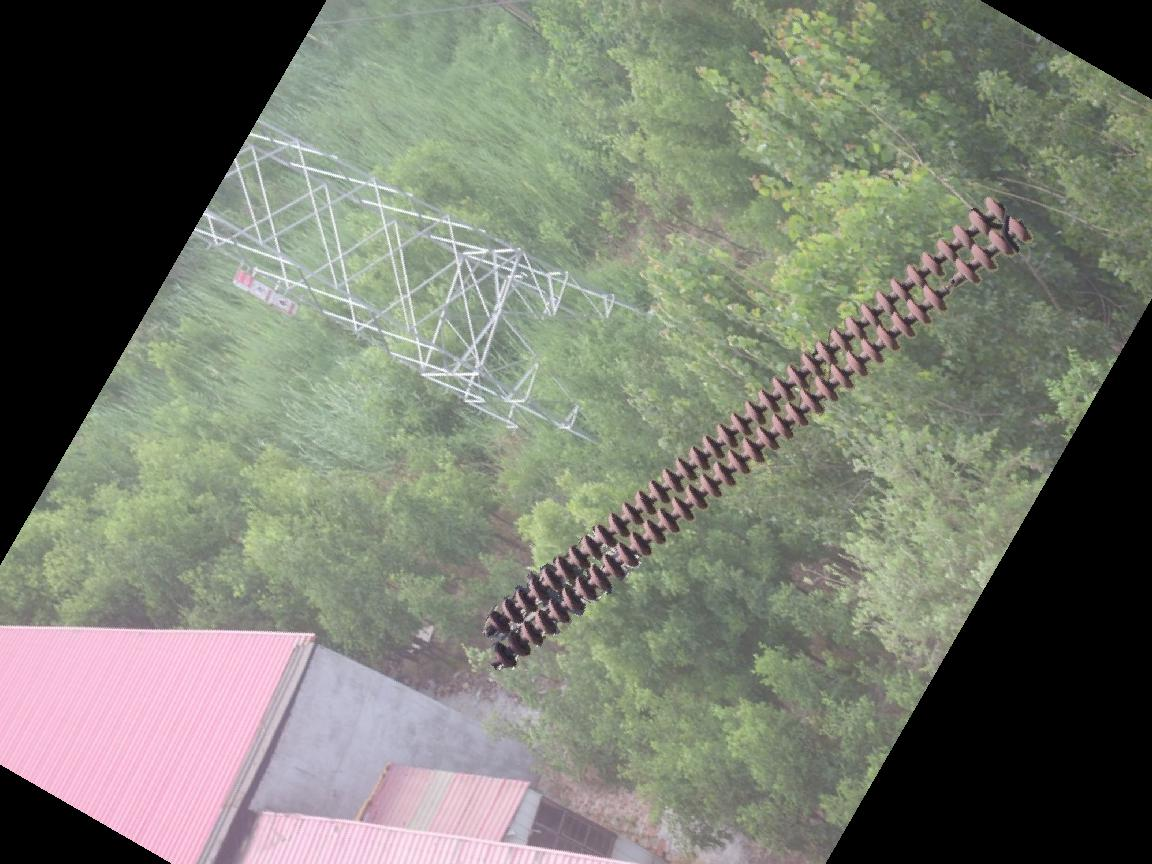insulator: (481, 187, 1034, 678)
insulator_stringdrop: (918, 255, 984, 313)
